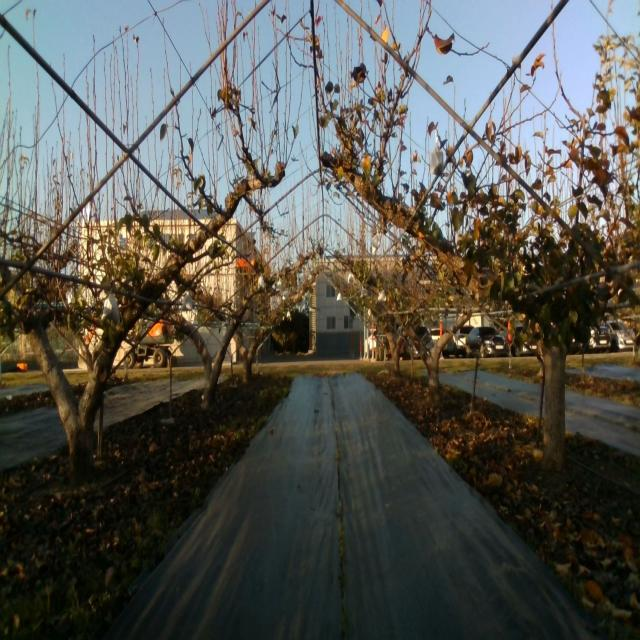pearbags: (101, 293, 121, 325), (429, 144, 444, 177), (371, 229, 381, 254), (182, 294, 193, 312)
